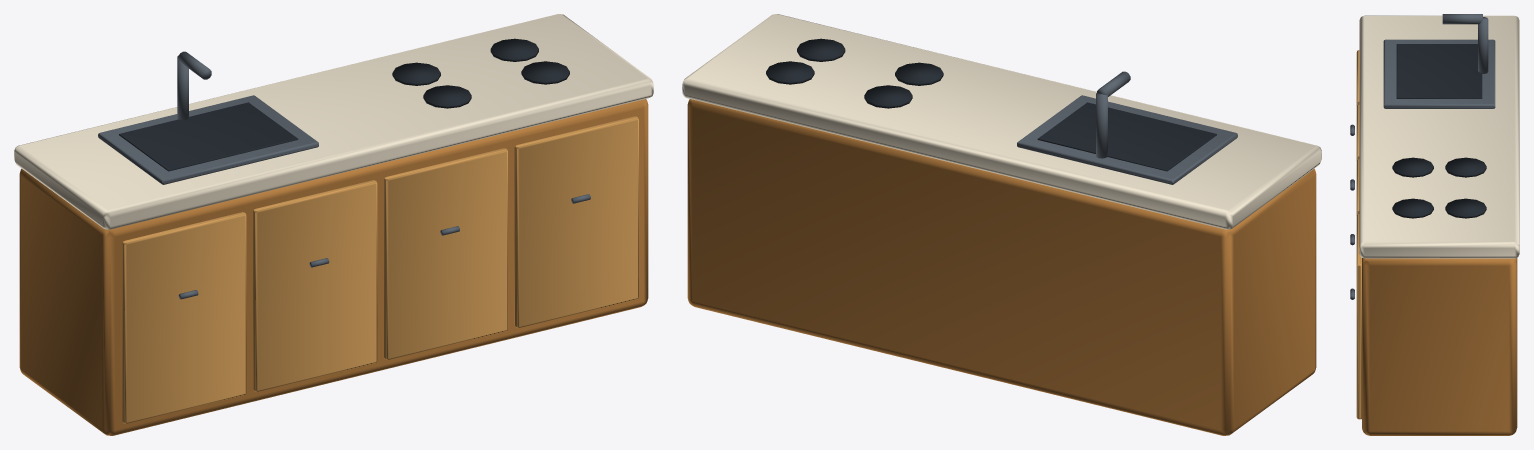
The model's file is home-kitchen.glb.
The picture shows the model from 3 angles, left to right: view 1: azimuth 30°, elevation 25°; view 2: azimuth 150°, elevation 25°; view 3: azimuth 270°, elevation 25°; orthographic projection. The views are drawn at different scales.
Visible parts, largest first — view 1: interior_3_woodLight.002, interior_3_ivory.003, interior_3_wood.003, interior_3_dark.001, interior_3_metal.002; view 2: interior_3_wood.003, interior_3_ivory.003, interior_3_dark.001, interior_3_metal.002; view 3: interior_3_ivory.003, interior_3_wood.003, interior_3_dark.001, interior_3_metal.002, interior_3_woodLight.002.
Part boxes in pixels (x1,y1,x2,y2): interior_3_woodLight.002: (122,116,638,423); interior_3_ivory.003: (14,14,653,229); interior_3_wood.003: (19,99,648,435); interior_3_dark.001: (119,38,569,171); interior_3_metal.002: (98,51,590,299); interior_3_wood.003: (687,99,1316,435); interior_3_ivory.003: (682,14,1321,229); interior_3_dark.001: (766,38,1216,171); interior_3_metal.002: (1017,71,1237,184); interior_3_ivory.003: (1359,15,1519,258); interior_3_wood.003: (1362,258,1517,435); interior_3_dark.001: (1392,44,1486,218); interior_3_metal.002: (1350,14,1495,299); interior_3_woodLight.002: (1356,50,1361,419).
Size of the model in its own units: 2.62 by 1.38 by 0.8189.
